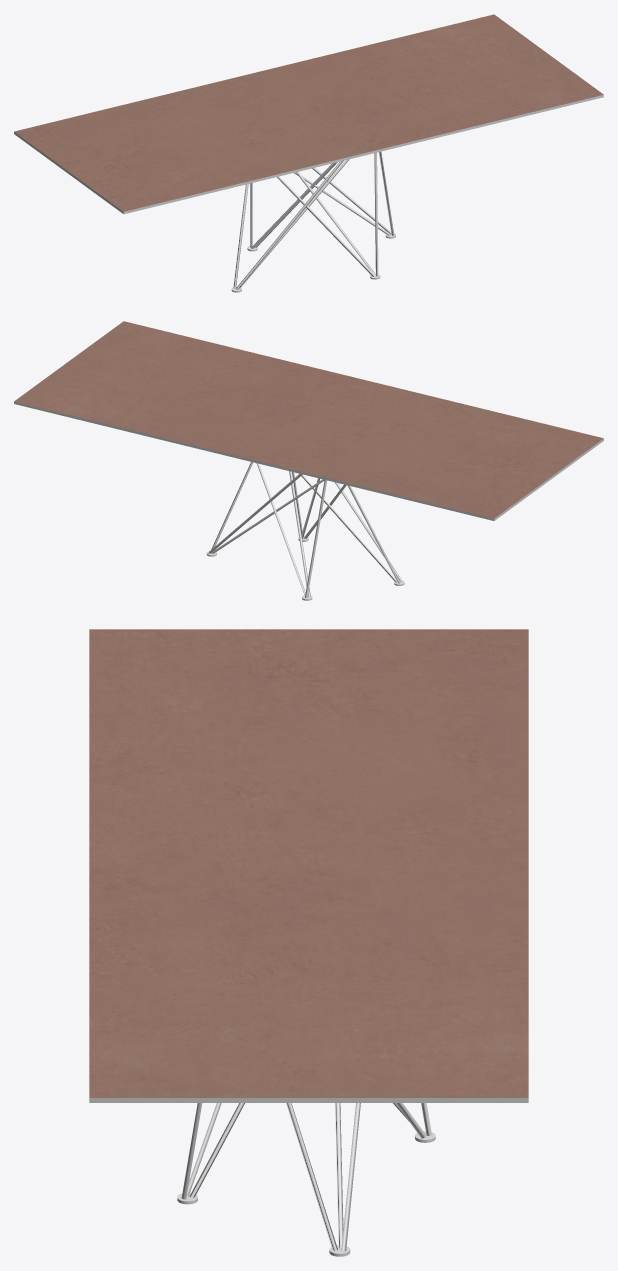
File: Stella15.glb
3 views of the same model, one above another, from view 1: azimuth 30°, elevation 25°; view 2: azimuth 150°, elevation 25°; view 3: azimuth 270°, elevation 25° (orthographic). The views are drawn at different scales.
Visible parts, largest first — view 1: Cube.001, Plane.018; view 2: Cube.001, Plane.018; view 3: Cube.001, Plane.018.
Part boxes in pixels (x1,y1,x2,y2): Cube.001: [14, 14, 603, 214]; Plane.018: [233, 151, 394, 289]; Cube.001: [14, 321, 603, 520]; Plane.018: [208, 462, 402, 598]; Cube.001: [89, 629, 528, 1102]; Plane.018: [181, 1103, 431, 1251].
Bounding box in the file's own units: 2.4 × 0.7201 × 0.95.
Materials: 4 (3 with a texture image).
